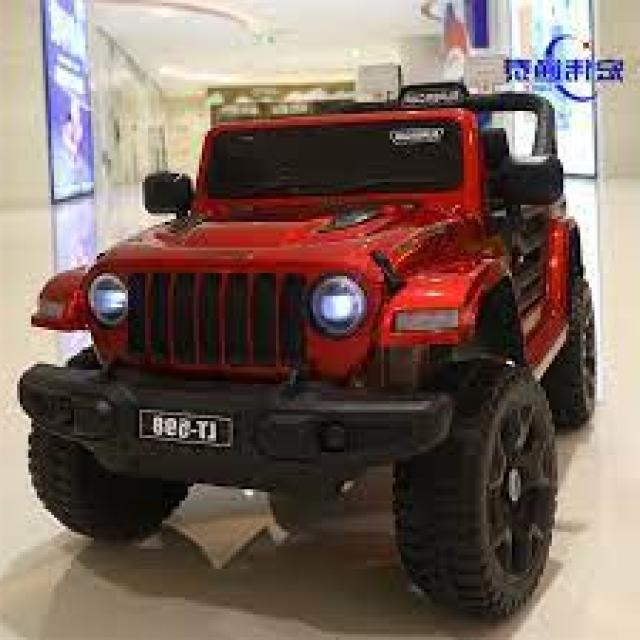Car: (17, 68, 600, 620)
